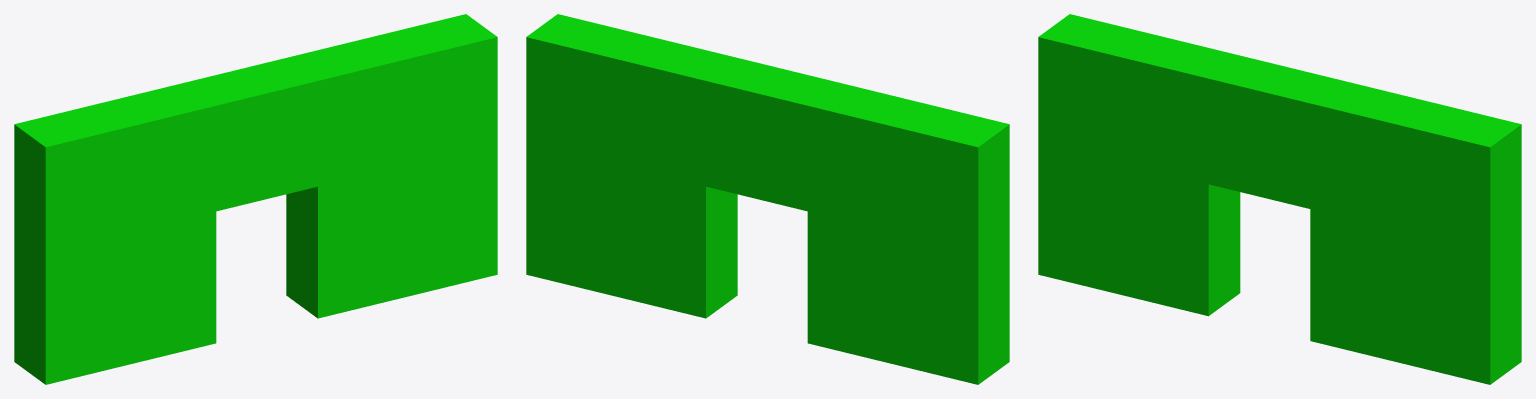
The model's file is green square wall.fbx.
3 renders of one model, left to right at view 1: azimuth 30°, elevation 25°; view 2: azimuth 150°, elevation 25°; view 3: azimuth 330°, elevation 25°, orthographic.
Parts seen in each view (by area): view 1: pCube1; view 2: pCube1; view 3: pCube1.
Part boxes in pixels (x1,y1,x2,y2): pCube1: (14, 14, 497, 384); pCube1: (526, 14, 1009, 384); pCube1: (1038, 14, 1521, 384).
Bounding box in the file's own units: 1.99 × 1 × 0.2405.
